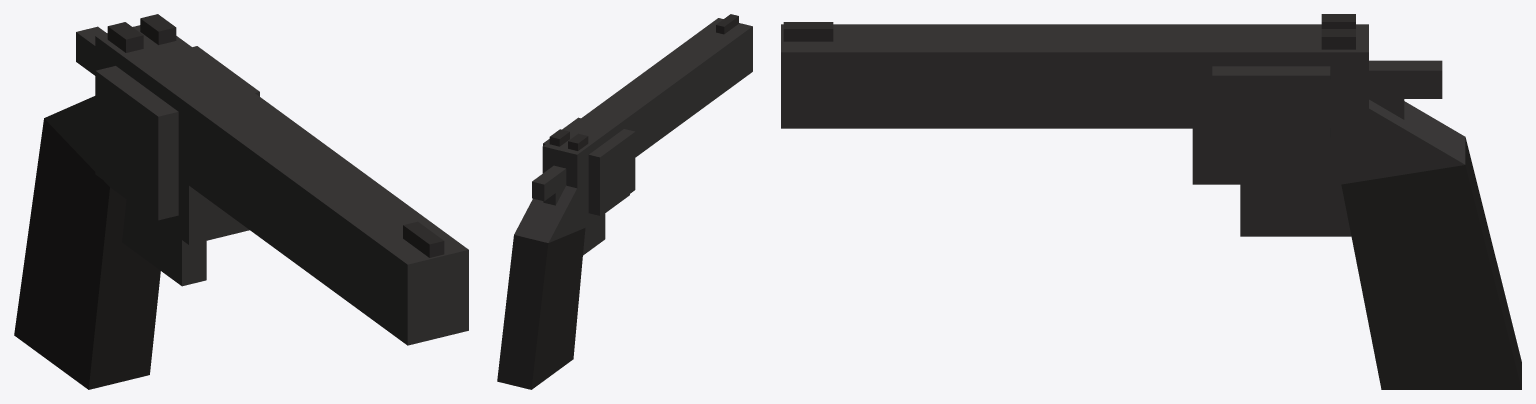
File: Revolver_long.FBX
The picture shows the model from 3 angles, left to right: view 1: azimuth 30°, elevation 25°; view 2: azimuth 150°, elevation 25°; view 3: azimuth 270°, elevation 25°; orthographic projection. The views are drawn at different scales.
Visible parts, largest first — view 1: Revolve_Long, RevolverBarrel; view 2: Revolve_Long, RevolverBarrel; view 3: Revolve_Long, RevolverBarrel.
Boxes of the visible parts, x1,y1,x2,y2 form: Revolve_Long: (14, 14, 468, 389); RevolverBarrel: (95, 46, 259, 220); Revolve_Long: (497, 14, 752, 389); RevolverBarrel: (543, 117, 635, 215); Revolve_Long: (781, 14, 1521, 389); RevolverBarrel: (1212, 66, 1330, 172).
Size of the model in its own units: 11.26 by 75.48 by 39.39.
